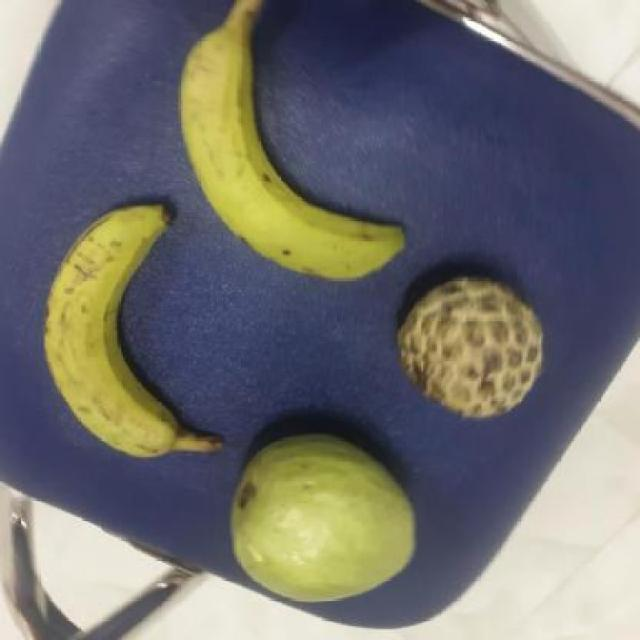banana: (185, 1, 422, 277), (43, 209, 226, 457)
guava: (232, 430, 422, 607), (400, 270, 558, 422)
sugar apple: (399, 273, 553, 418)
